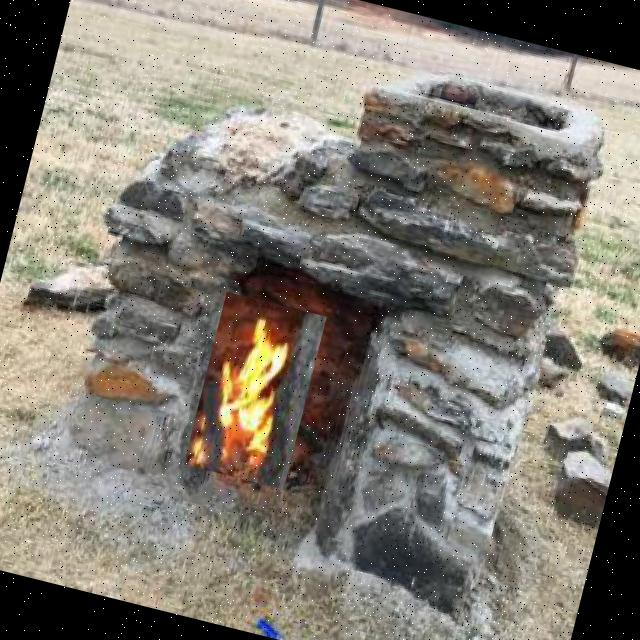fire: (183, 292, 326, 489)
